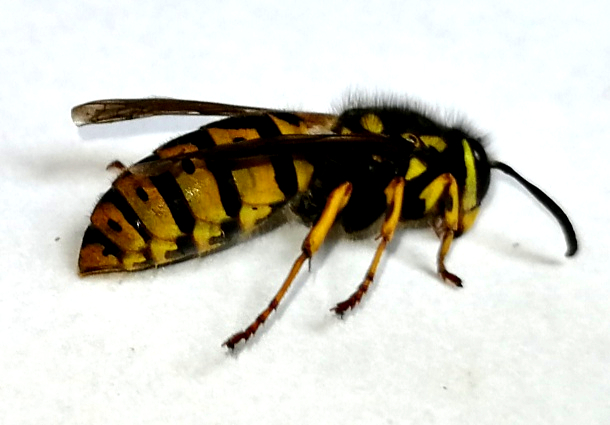chax: (63, 84, 592, 357)
